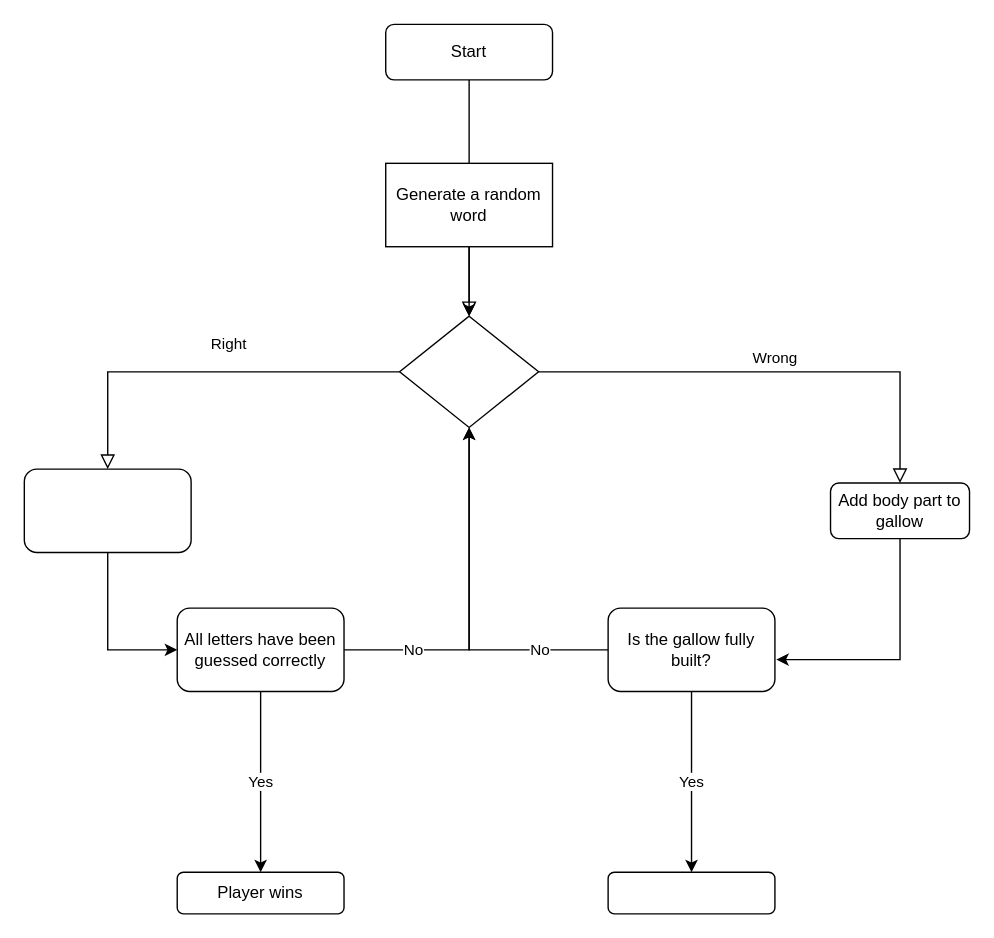
This 994x938 diagram has some shape labels left out. Here are the shapes that lost their labels. From the top down, the centre of each, then its label:
the point at 468,371: Player guesses letters
the point at 107,510: replace blank space with correctly guessed letter
the point at 691,892: Player loses
